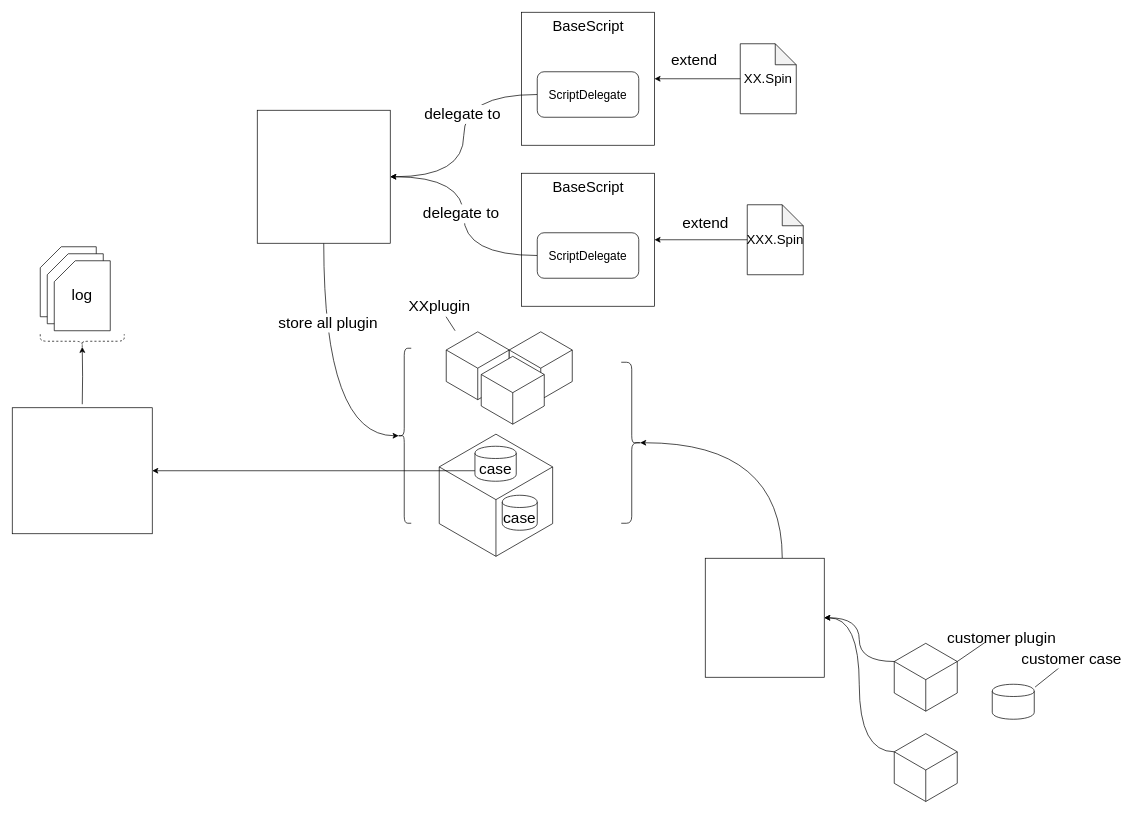
Some shapes in this 1134 by 815 pixel diagram are drawn without their labels. Each missing label, with the centre of its shape:
logProcess: point (82, 470)
plugin Manager: point (764, 617)
Spin: point (323, 176)
